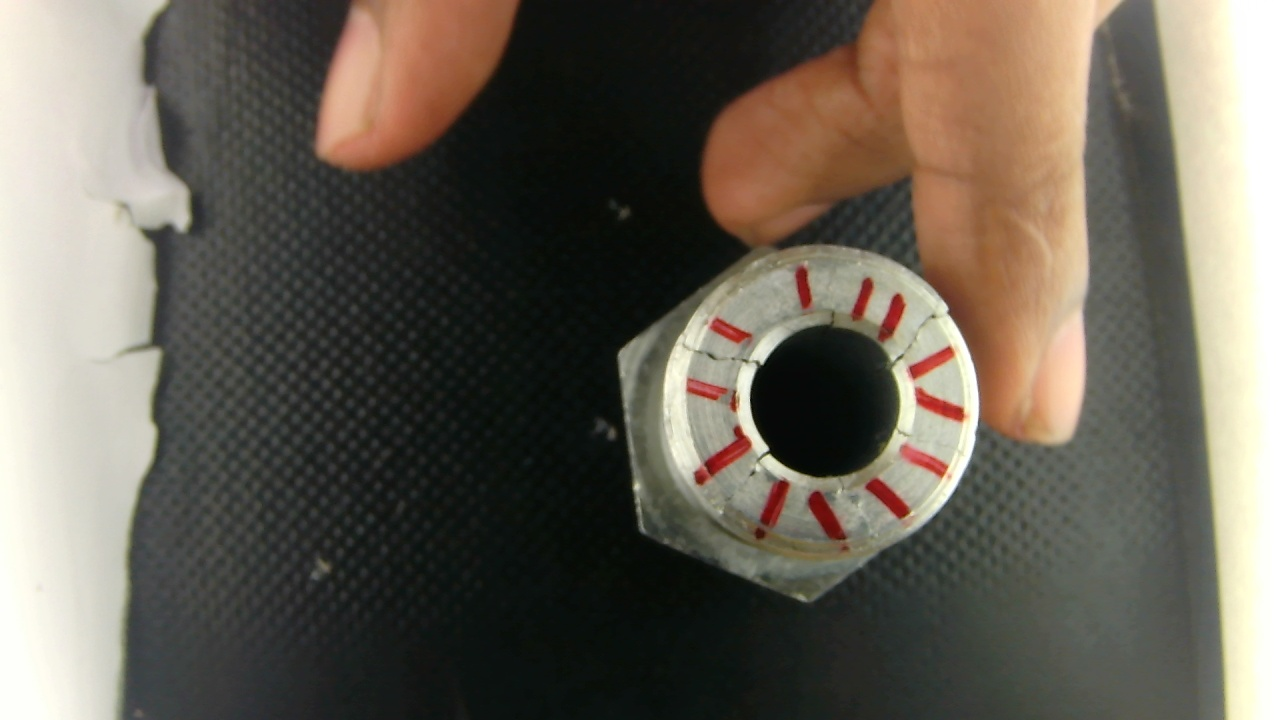crack: (681, 317, 765, 377)
